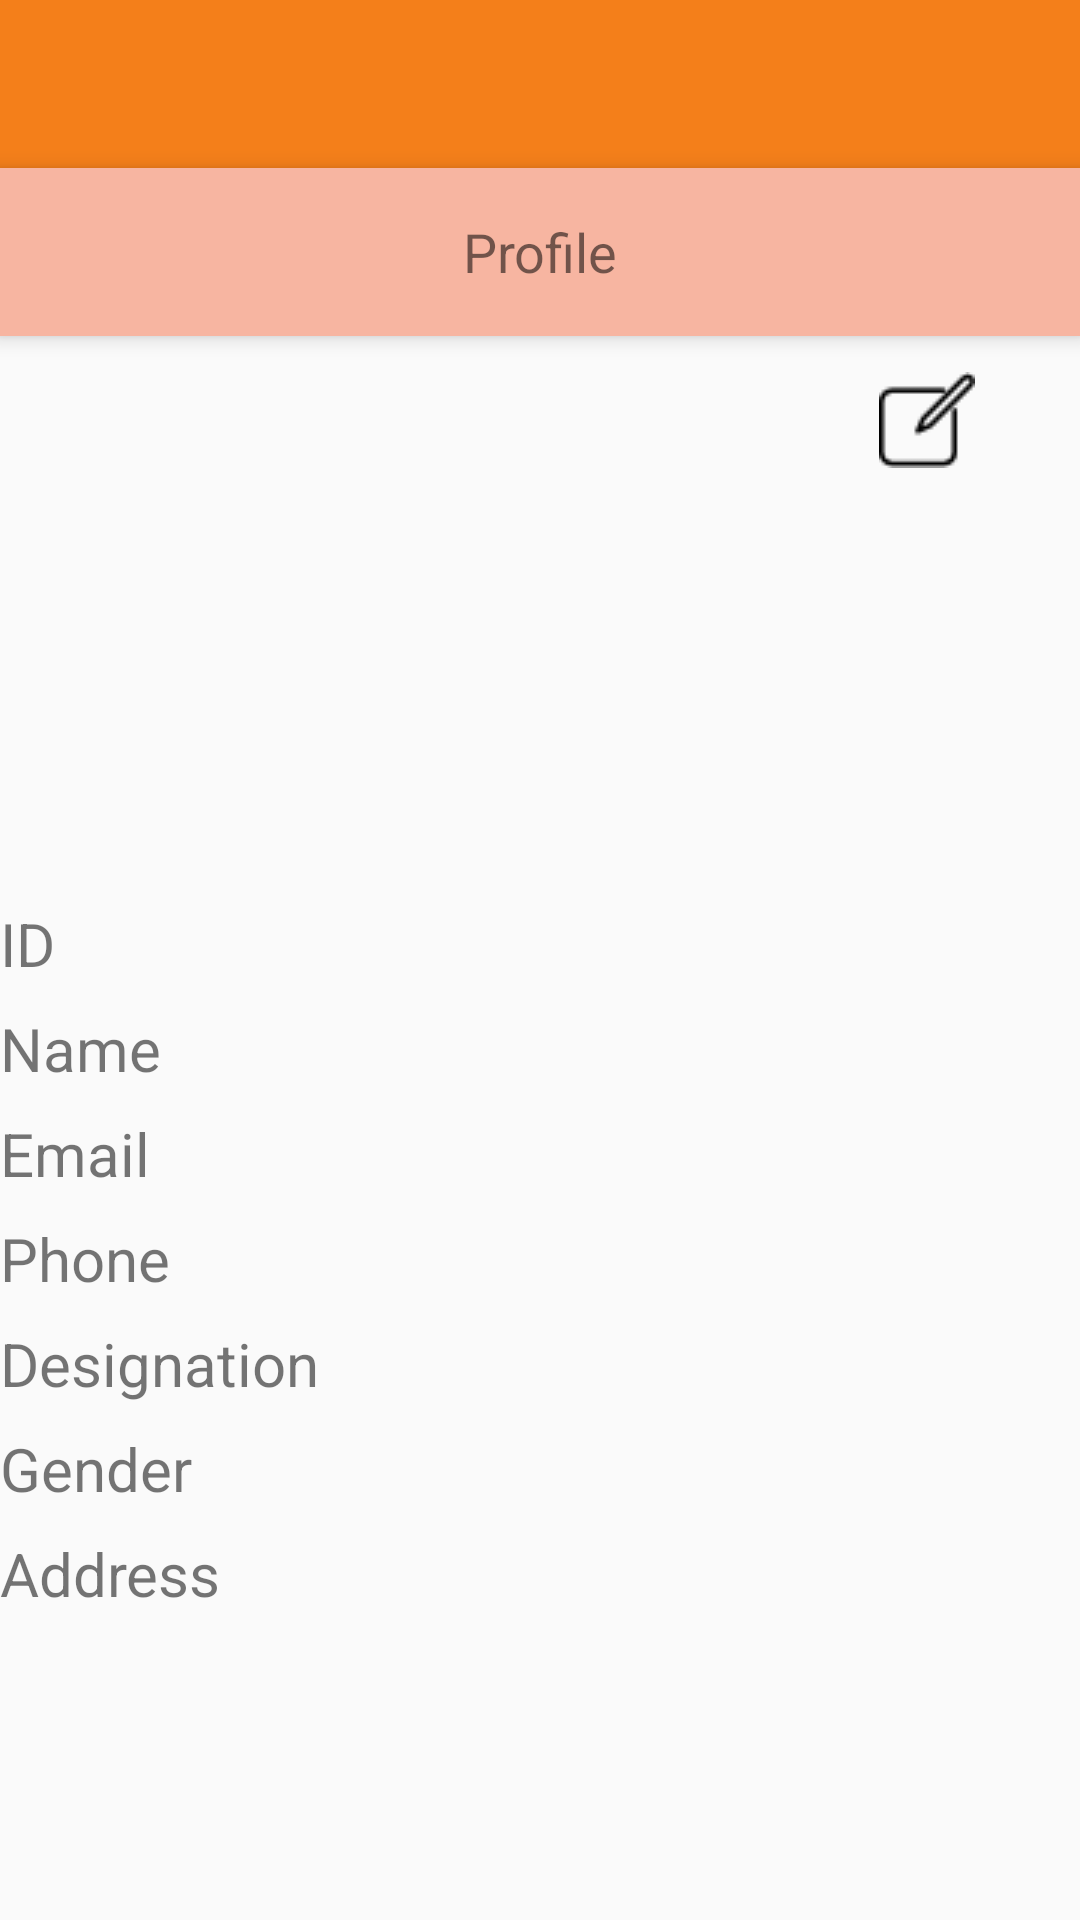

Icons on this 1080*1920 Android screen, each with the point to tap as [x,y]:
editbutton: [927,420]
